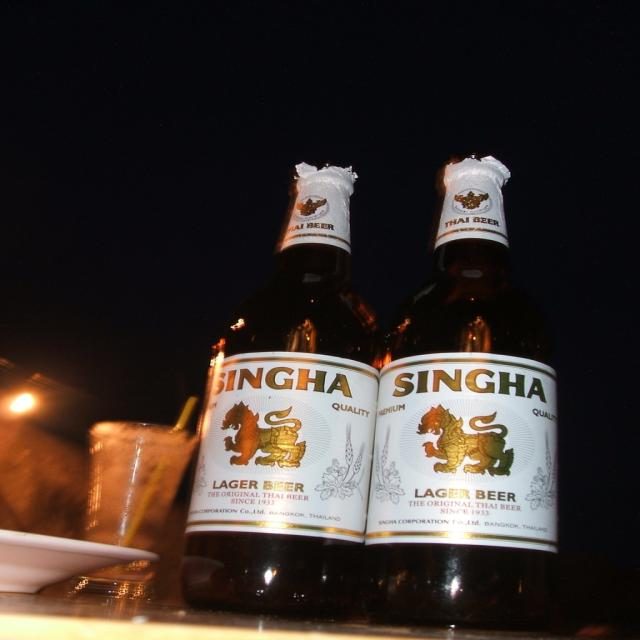singha: (367, 359, 563, 549), (185, 357, 379, 538)
